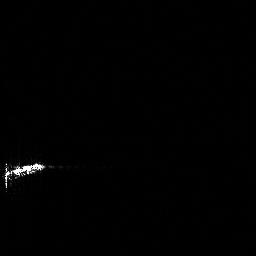ship: (5, 164, 46, 179)
